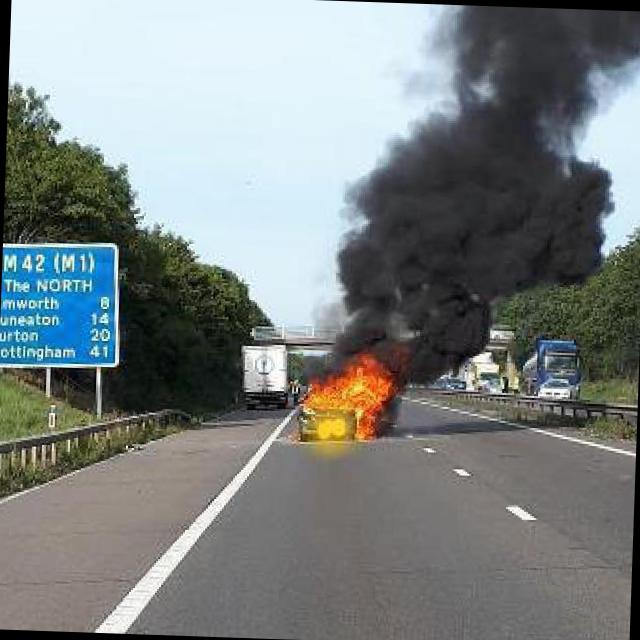Fire: (302, 342, 403, 442)
Smoke: (329, 2, 640, 371)
